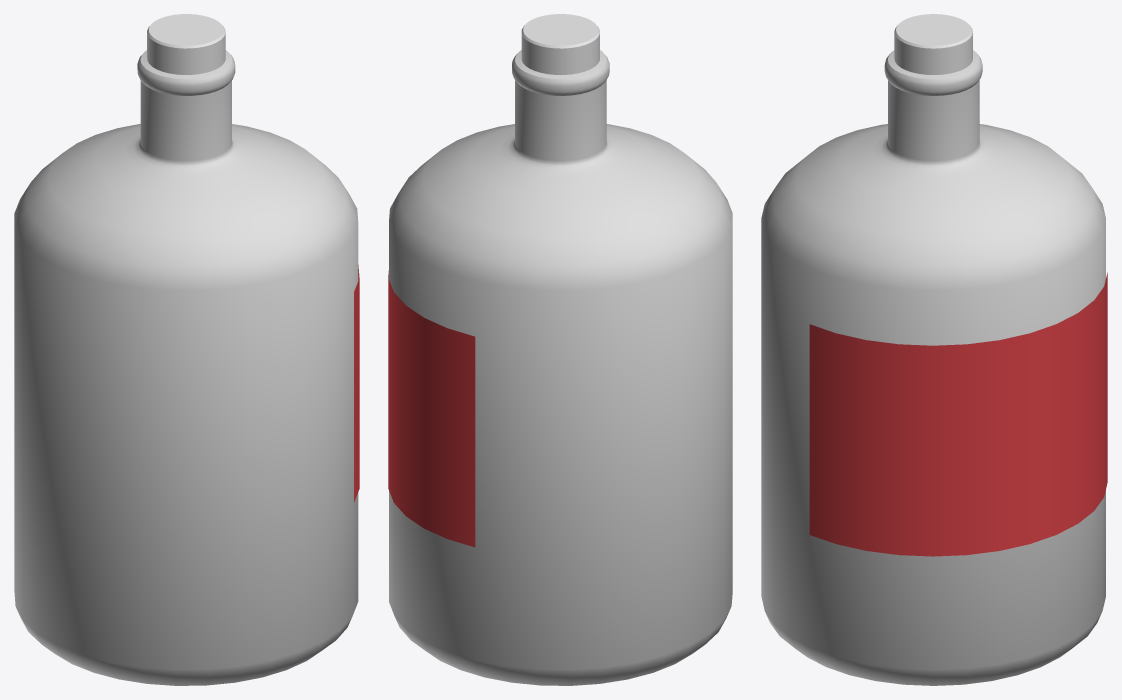
File: flask_big_p.fbx
3 views of the same model, side by side, from view 1: azimuth 30°, elevation 25°; view 2: azimuth 150°, elevation 25°; view 3: azimuth 270°, elevation 25° (orthographic).
Visible parts, largest first — view 1: falshe_gr_p; view 2: falshe_gr_p; view 3: falshe_gr_p.
Boxes of the visible parts, box(x1,y1,x2,y2) form: falshe_gr_p: box(14, 14, 359, 685); falshe_gr_p: box(388, 14, 732, 685); falshe_gr_p: box(761, 14, 1107, 685).
Bounding box in the file's own units: 25.12 × 47.52 × 25.18.
